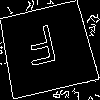F: (22, 24, 62, 76)
